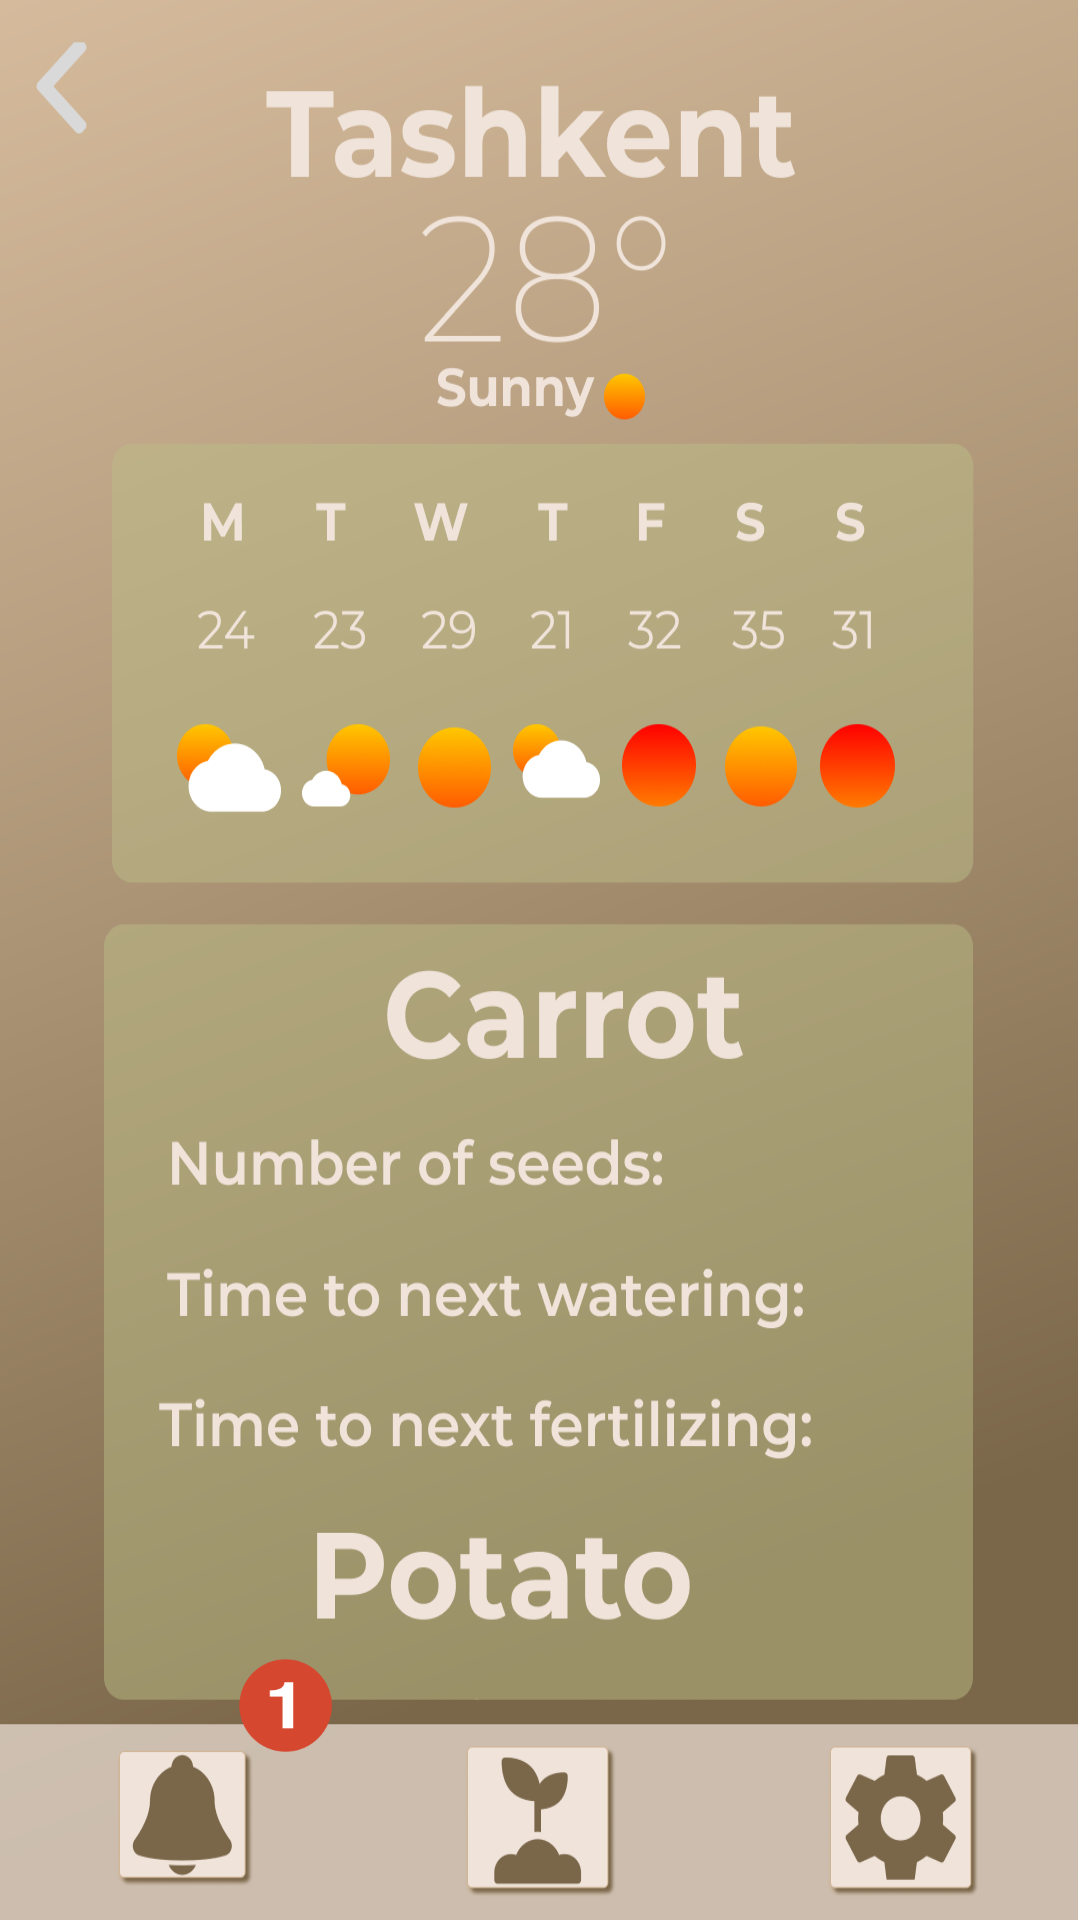

Point at icon controls on the screen. Image size 1080w x 1920h, points as (x=x, y=y).
number: (x=286, y=1705)
